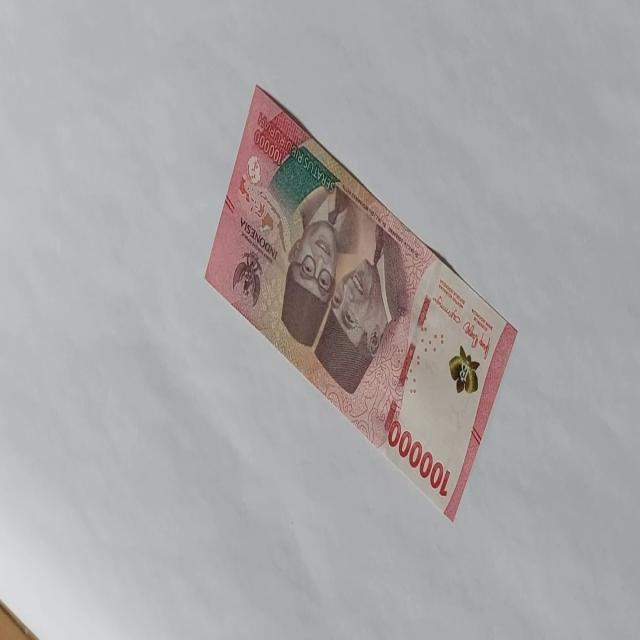seratus ribu rupiah: (204, 82, 518, 522)
